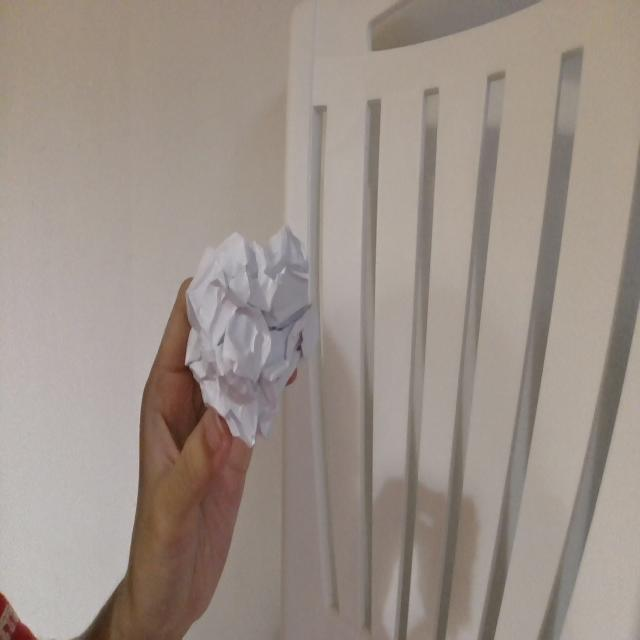crumpled_paper: (180, 220, 317, 448)
